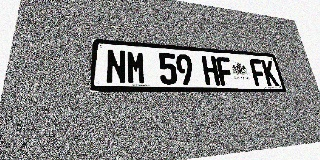5: (158, 53, 178, 85)
9: (175, 54, 195, 85)
F: (216, 57, 235, 85), (249, 59, 267, 86)
H: (201, 56, 220, 85)
K: (261, 60, 279, 86)
M: (126, 50, 146, 84)
N: (106, 49, 126, 84)
